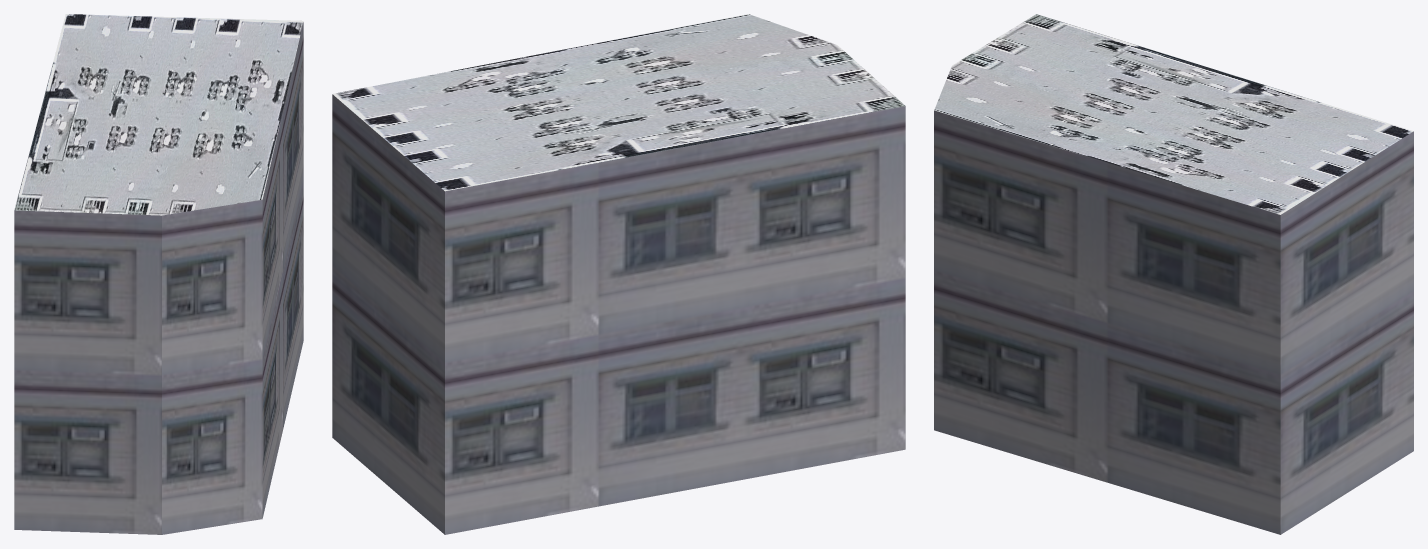
File: ResTex__3261.fbx
3 views of the same model, side by side, from view 1: azimuth 30°, elevation 25°; view 2: azimuth 150°, elevation 25°; view 3: azimuth 270°, elevation 25° (orthographic). The views are drawn at different scales.
Visible parts, largest first — view 1: CityEngineMaterial_1_m, CityEngineMaterial_4_m; view 2: CityEngineMaterial_1_m, CityEngineMaterial_4_m; view 3: CityEngineMaterial_1_m, CityEngineMaterial_4_m.
Boxes of the visible parts, x1=… form: CityEngineMaterial_1_m: x1=14, y1=22, x2=303, y2=534; CityEngineMaterial_4_m: x1=14, y1=14, x2=303, y2=215; CityEngineMaterial_1_m: x1=332, y1=94, x2=905, y2=534; CityEngineMaterial_4_m: x1=332, y1=14, x2=905, y2=191; CityEngineMaterial_1_m: x1=934, y1=110, x2=1413, y2=534; CityEngineMaterial_4_m: x1=934, y1=14, x2=1413, y2=214.
Bounding box in the file's own units: 8.09 × 6 × 8.15.
Materials: 2 (2 with a texture image).
